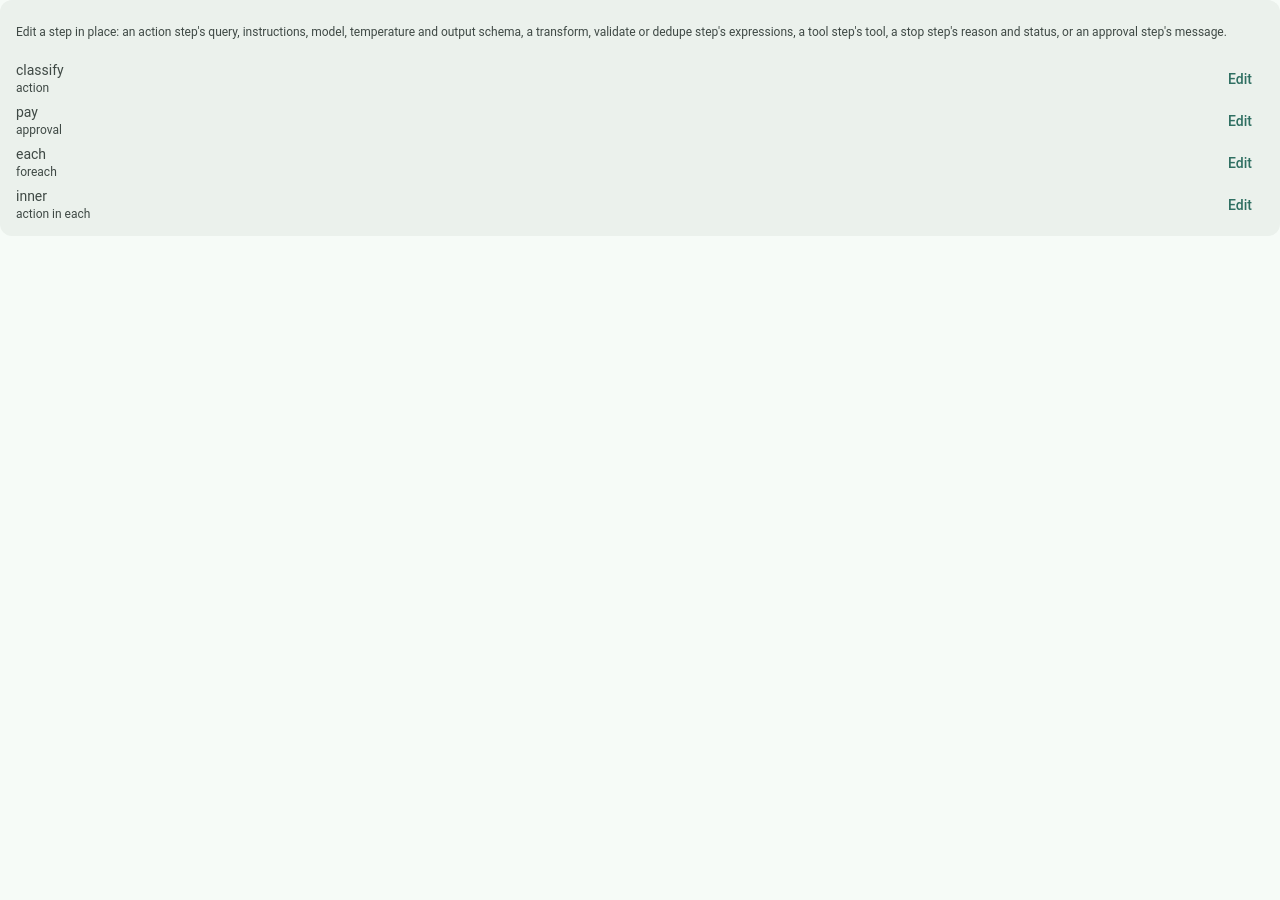
Test case: StepsPanel › opens a step with its values and saves a patch of only what changed
Click the button with aria-label "Edit classify". click: [1240, 79]
box: [1216, 61, 1264, 97]
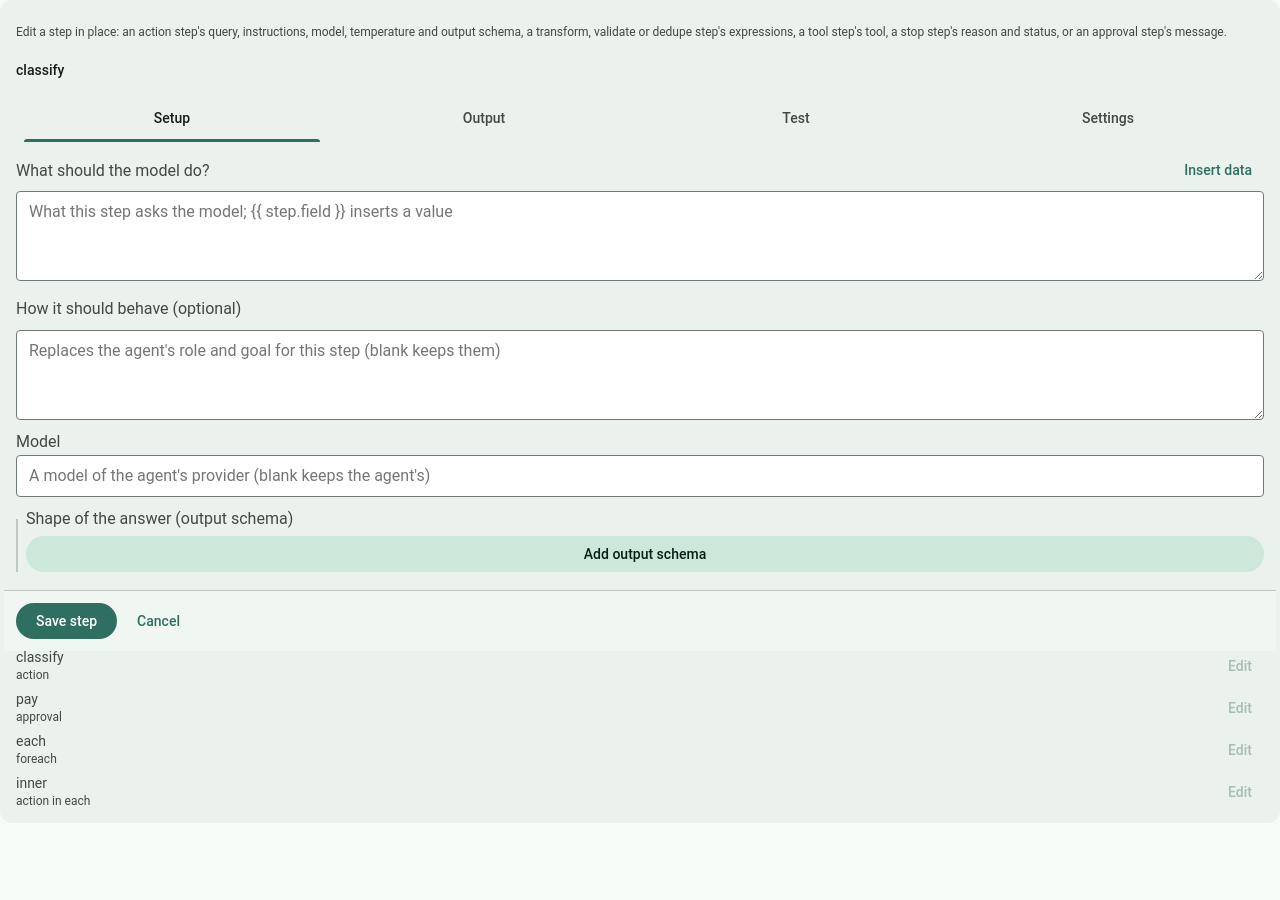
Result: the element named "Creativity (temperature)" holds "0.2" at [16, 94, 1264, 572]
Type "gpt-x" into the field labelled "Model". click: [640, 476]
box: [16, 455, 1264, 497]
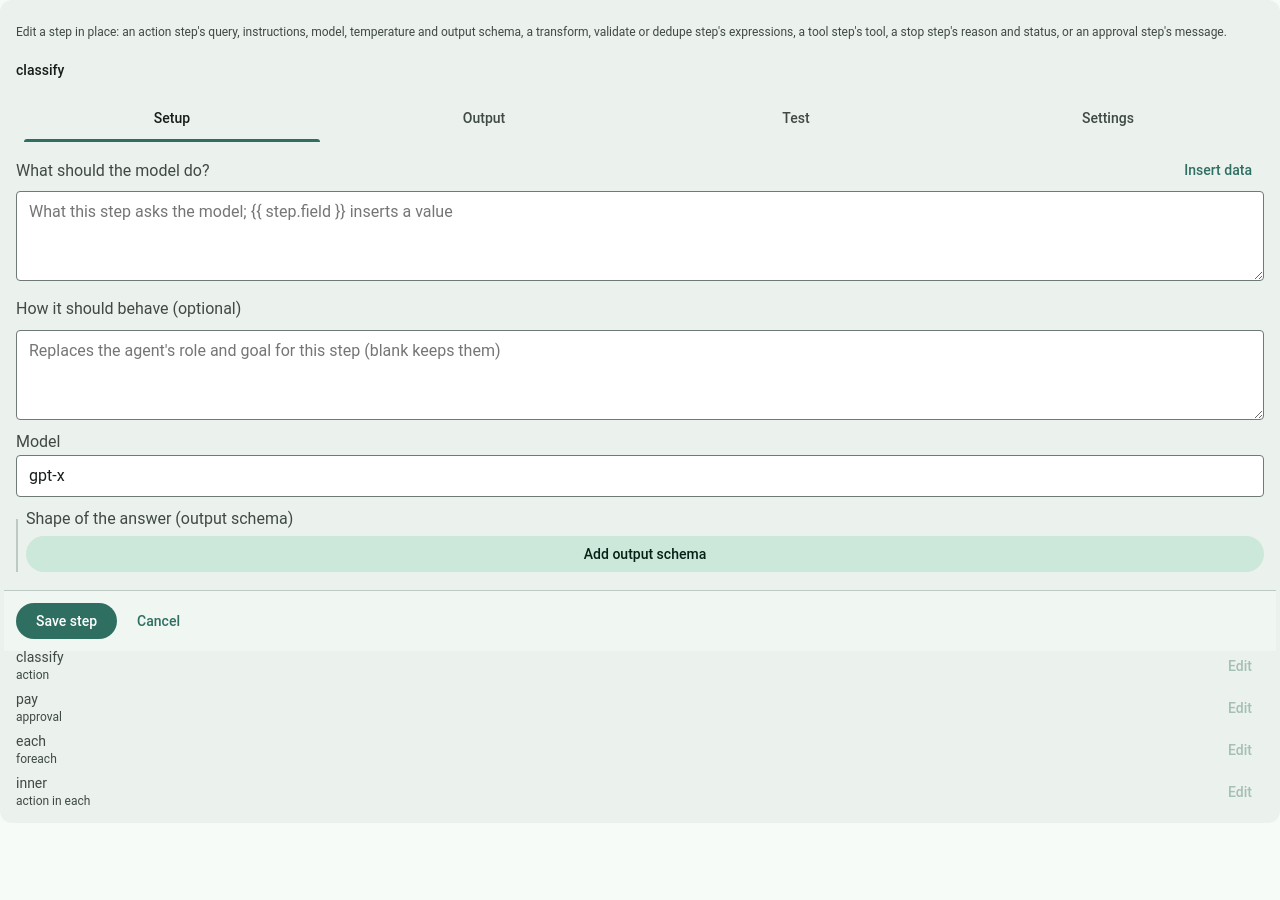
Replace the text in the text box labelled "How it should behave (optional)" with "Be brief.". click: [640, 375]
box: [16, 330, 1264, 420]
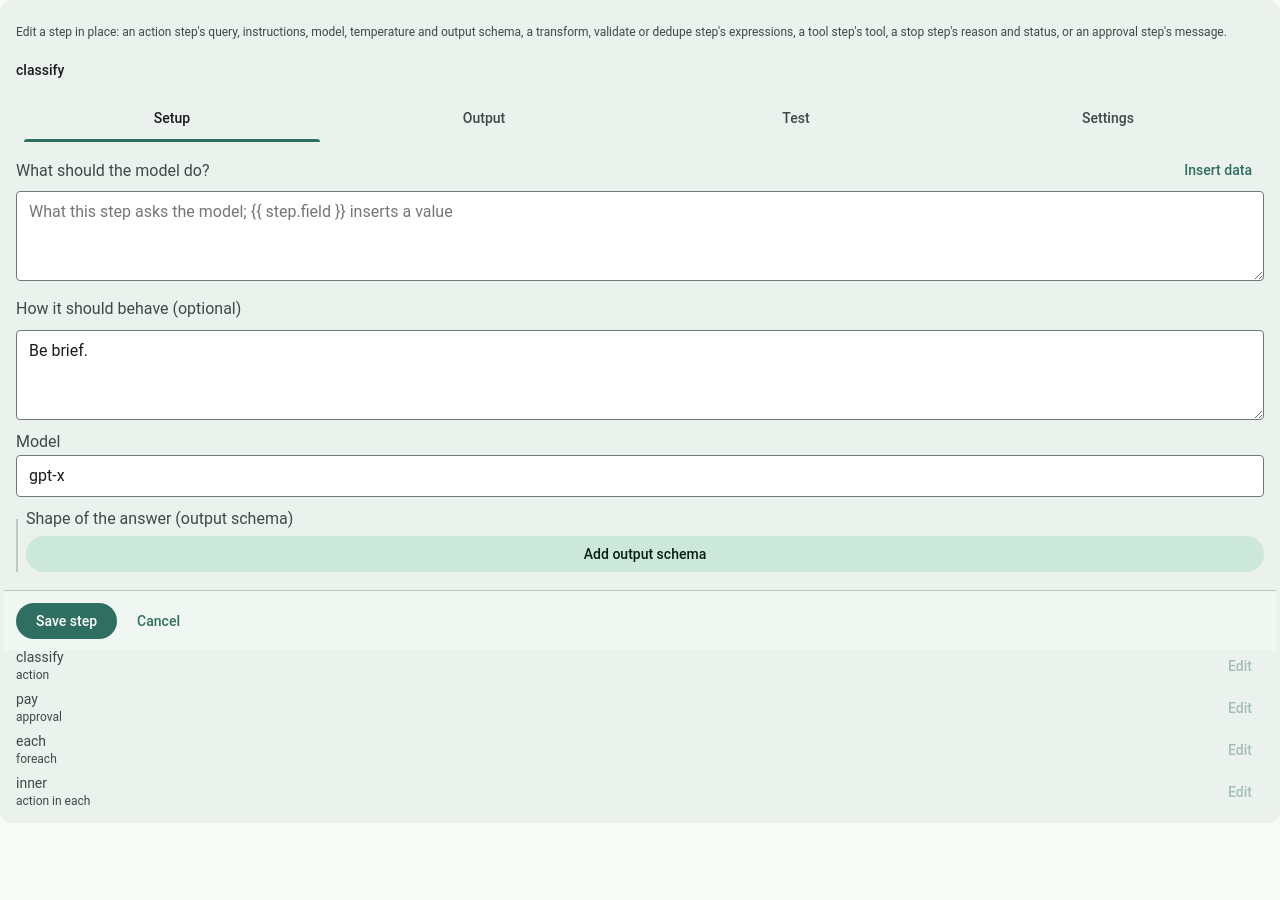
Click the button "Save step". click: [67, 621]
box: [16, 603, 117, 639]
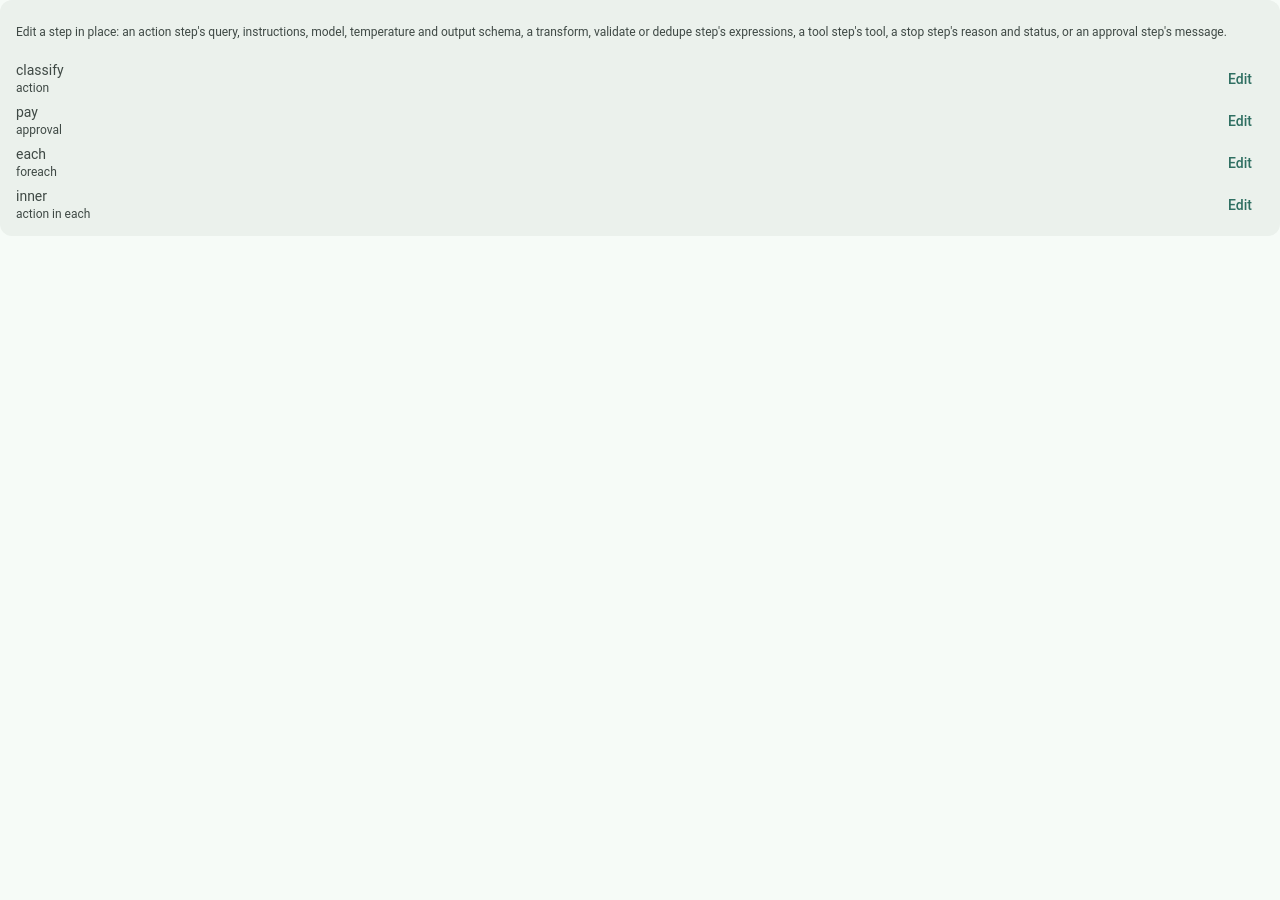
Result: the form is gone
